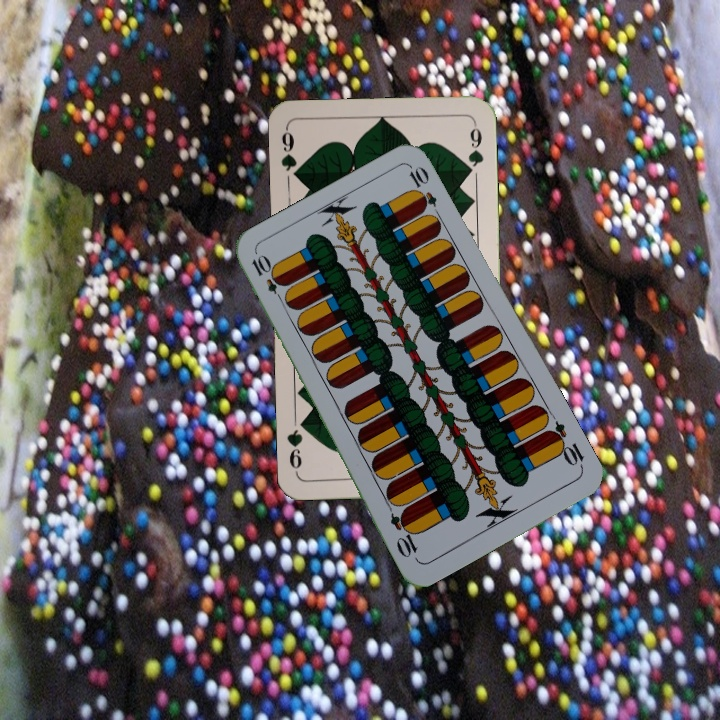E10: (543, 417, 587, 472), (247, 251, 288, 306)
G9: (277, 125, 303, 184)
